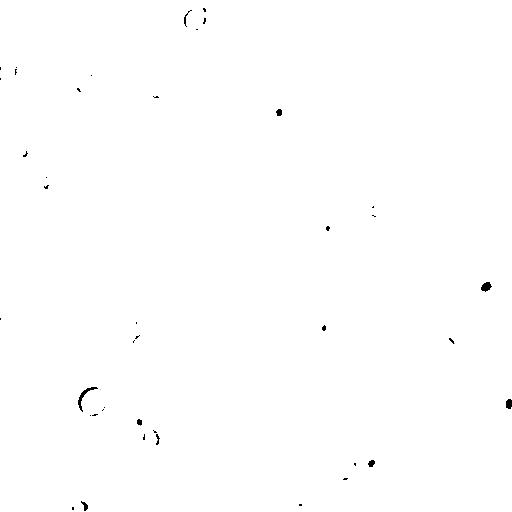micro-algae: (39, 0, 133, 83), (217, 448, 299, 511), (30, 216, 91, 283), (87, 283, 143, 337), (298, 452, 355, 505), (339, 383, 379, 423), (441, 313, 480, 354), (317, 131, 357, 169), (434, 195, 467, 237), (469, 271, 504, 304), (262, 96, 295, 130), (65, 231, 102, 261), (76, 383, 108, 417), (123, 401, 157, 433), (305, 311, 339, 342), (22, 267, 59, 295), (219, 193, 247, 229), (139, 21, 170, 53), (357, 444, 389, 475), (52, 492, 101, 511), (314, 213, 343, 245), (402, 199, 426, 237), (263, 225, 289, 257), (270, 27, 301, 53), (385, 83, 413, 111), (320, 428, 345, 459), (182, 4, 208, 33), (209, 0, 235, 29), (491, 383, 511, 419), (415, 0, 448, 21), (129, 331, 151, 361), (204, 298, 225, 329), (12, 346, 39, 370), (212, 253, 235, 280), (427, 337, 458, 357), (74, 71, 97, 97), (134, 381, 159, 403), (14, 59, 34, 86), (169, 496, 204, 511), (255, 0, 285, 16), (368, 200, 392, 220), (431, 301, 452, 323), (141, 425, 160, 448), (296, 153, 312, 177), (115, 491, 133, 512), (13, 139, 29, 160), (445, 360, 462, 379), (123, 307, 139, 326), (338, 465, 356, 479), (38, 172, 51, 191), (1, 56, 9, 79)
